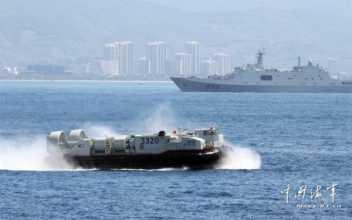otherboat: (43, 106, 231, 169)
